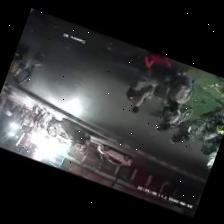person: (161, 86, 180, 128), (169, 76, 192, 110), (206, 147, 218, 169)
